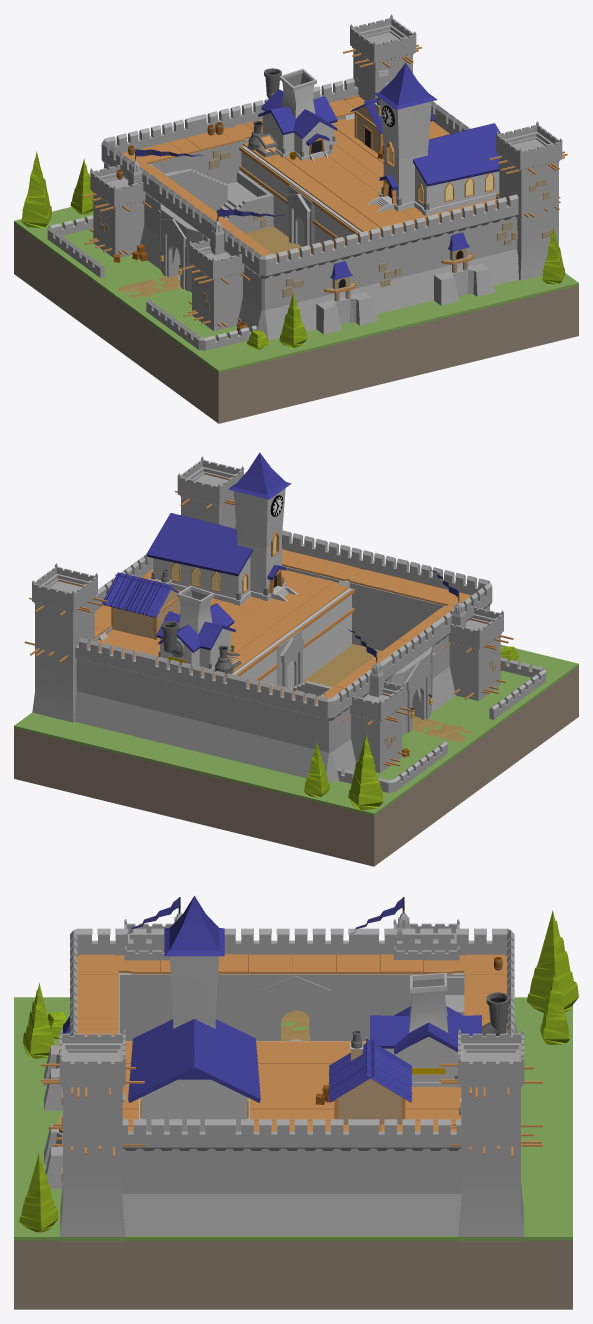
File: Castle.fbx
The picture shows the model from 3 angles, top to bottom: view 1: azimuth 30°, elevation 25°; view 2: azimuth 150°, elevation 25°; view 3: azimuth 270°, elevation 25°; orthographic projection. The views are drawn at different scales.
Parts seen in each view (by area): view 1: Cube, Cube (1), Building_Human_Town_Hall_Blue_01, Building_Fortress_Castle_Wall_Corner_Outer_Medium_01, Building_Modular_Jetty_Walkway_Timber_Base_01, Building_Fortress_Castle_Tower_Large_01, Building_Fortress_Castle_Wall_Straight_Medium_01 (1), Building_Human_Smith_Blue_01, Building_Fortress_Castle_Wall_Straight_Medium_01, Building_Fortress_Castle_Wall_Corner_Outer_Medium_01 (1), Building_Fortress_Castle_Tower_Large_01 (2), Building_Fortress_Castle_Tower_Large_01 (3) (+24 smaller); view 2: Cube, Cube (1), Building_Human_Town_Hall_Blue_01, Building_Fortress_Castle_Wall_Corner_Outer_Medium_01 (1), Building_Fortress_Castle_Wall_Straight_Medium_01 (2), Building_Fortress_Castle_Tower_Large_01 (1), Building_Modular_Jetty_Walkway_Timber_Base_01, Building_Fortress_Castle_Wall_Straight_Medium_01 (3), Building_Fortress_Castle_Wall_Corner_Outer_Medium_01, Building_Human_Smith_Blue_01, Building_Fortress_Castle_Wall_Straight_Medium_01 (1), Building_Fortress_Castle_Tower_Large_01 (3) (+20 smaller); view 3: Cube, Cube (1), Building_Human_Town_Hall_Blue_01, Building_Fortress_Castle_Wall_Straight_Medium_01 (5), Building_Fortress_Castle_Tower_Large_01 (1), Building_Fortress_Castle_Tower_Large_01, Building_Fortress_Castle_Wall_Straight_Medium_01 (6), Building_Fortress_Castle_Wall_Straight_Medium_01 (4), Building_Fortress_Castle_Wall_Opening_Medium_01, Building_Modular_Jetty_Walkway_Timber_Base_01, Building_Human_Smith_Blue_01, Building_Fortress_Castle_Wall_Corner_Outer_Medium_01 (1) (+17 smaller).
Boxes of the visible parts, <box> form: Cube: <box>14,223,578,423</box>; Cube (1): <box>14,207,578,372</box>; Building_Human_Town_Hall_Blue_01: <box>367,63,500,215</box>; Building_Fortress_Castle_Wall_Corner_Outer_Medium_01: <box>206,217,357,340</box>; Building_Modular_Jetty_Walkway_Timber_Base_01: <box>243,118,496,232</box>; Building_Fortress_Castle_Tower_Large_01: <box>489,121,567,280</box>; Building_Fortress_Castle_Wall_Straight_Medium_01 (1): <box>345,214,438,314</box>; Building_Human_Smith_Blue_01: <box>256,68,337,161</box>; Building_Fortress_Castle_Wall_Straight_Medium_01: <box>426,194,518,285</box>; Building_Fortress_Castle_Wall_Corner_Outer_Medium_01 (1): <box>101,116,212,261</box>; Building_Fortress_Castle_Tower_Large_01 (2): <box>83,158,156,257</box>; Building_Fortress_Castle_Tower_Large_01 (3): <box>181,231,254,331</box>; Cube: <box>14,666,578,866</box>; Cube (1): <box>14,644,578,815</box>; Building_Human_Town_Hall_Blue_01: <box>146,452,297,605</box>; Building_Fortress_Castle_Wall_Corner_Outer_Medium_01 (1): <box>234,659,386,782</box>; Building_Fortress_Castle_Wall_Straight_Medium_01 (2): <box>143,653,237,760</box>; Building_Fortress_Castle_Tower_Large_01 (1): <box>24,563,107,722</box>; Building_Modular_Jetty_Walkway_Timber_Base_01: <box>97,570,349,673</box>; Building_Fortress_Castle_Wall_Straight_Medium_01 (3): <box>74,636,146,738</box>; Building_Fortress_Castle_Wall_Corner_Outer_Medium_01: <box>381,561,492,704</box>; Building_Human_Smith_Blue_01: <box>156,585,241,670</box>; Building_Fortress_Castle_Wall_Straight_Medium_01 (1): <box>299,538,409,650</box>; Building_Fortress_Castle_Tower_Large_01 (3): <box>437,600,513,700</box>; Cube: <box>14,1240,572,1309</box>; Cube (1): <box>14,997,572,1240</box>; Building_Human_Town_Hall_Blue_01: <box>128,896,260,1131</box>; Building_Fortress_Castle_Wall_Straight_Medium_01 (5): <box>220,1119,363,1235</box>; Building_Fortress_Castle_Tower_Large_01 (1): <box>439,1029,542,1241</box>; Building_Fortress_Castle_Tower_Large_01: <box>40,1029,144,1241</box>; Building_Fortress_Castle_Wall_Straight_Medium_01 (6): <box>122,1119,220,1235</box>; Building_Fortress_Castle_Wall_Straight_Medium_01 (4): <box>364,1119,461,1235</box>; Building_Fortress_Castle_Wall_Opening_Medium_01: <box>220,928,363,1040</box>; Building_Modular_Jetty_Walkway_Timber_Base_01: <box>122,1041,461,1124</box>; Building_Human_Smith_Blue_01: <box>370,972,510,1087</box>; Building_Fortress_Castle_Wall_Corner_Outer_Medium_01 (1): <box>364,928,517,1040</box>.
Size of the model in its own units: 11.01 by 7.31 by 10.57.
